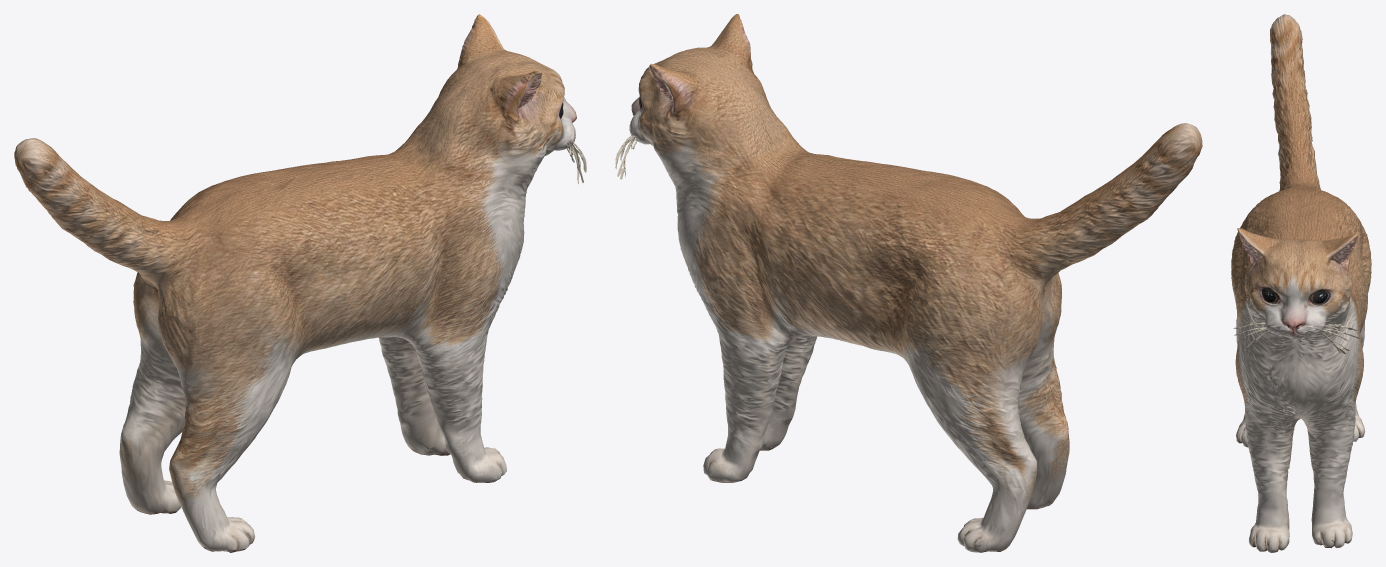
File: GANYHOUSE.glb
3 views of the same model, side by side, from view 1: azimuth 30°, elevation 25°; view 2: azimuth 150°, elevation 25°; view 3: azimuth 270°, elevation 25° (orthographic). The views are drawn at different scales.
Visible parts, largest first — view 1: tripo_node_db212359-d5da-4b30-ae6d-c8028d3ce3a6; view 2: tripo_node_db212359-d5da-4b30-ae6d-c8028d3ce3a6; view 3: tripo_node_db212359-d5da-4b30-ae6d-c8028d3ce3a6.
Boxes of the visible parts, x1,y1,x2,y2 form: tripo_node_db212359-d5da-4b30-ae6d-c8028d3ce3a6: [14, 14, 586, 552]; tripo_node_db212359-d5da-4b30-ae6d-c8028d3ce3a6: [615, 14, 1202, 552]; tripo_node_db212359-d5da-4b30-ae6d-c8028d3ce3a6: [1231, 14, 1371, 552].
Bounding box in the file's own units: 1.35 × 0.9989 × 0.3574.
Materials: 1 (1 with a texture image).
